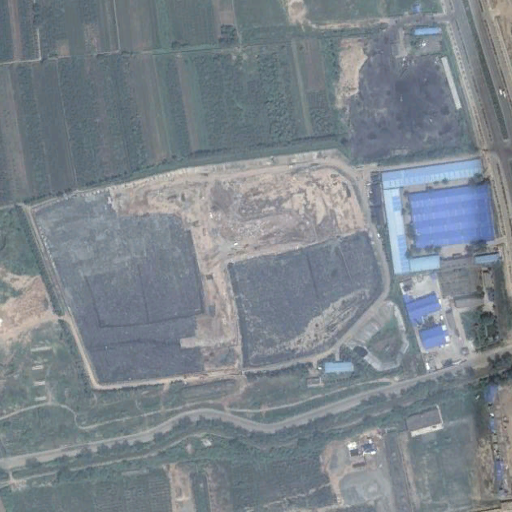lf: (25, 149, 392, 390)
